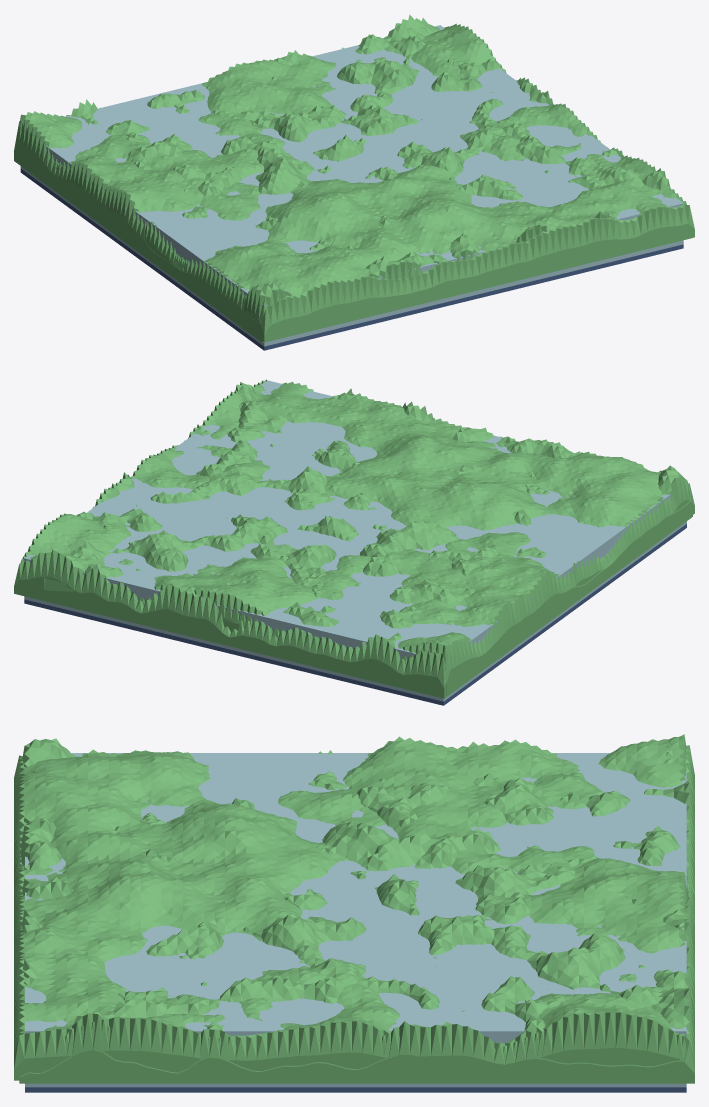
Rendered from Terrain.glb.
3 views of the same model, one above another, from view 1: azimuth 30°, elevation 25°; view 2: azimuth 150°, elevation 25°; view 3: azimuth 270°, elevation 25° (orthographic). The views are drawn at different scales.
Parts seen in each view (by area): view 1: Mesh_Mesh_head_geo.001_lambert2SG.001; view 2: Mesh_Mesh_head_geo.001_lambert2SG.001; view 3: Mesh_Mesh_head_geo.001_lambert2SG.001.
Part boxes in pixels (x1,y1,x2,y2): Mesh_Mesh_head_geo.001_lambert2SG.001: [14, 14, 694, 350]; Mesh_Mesh_head_geo.001_lambert2SG.001: [14, 379, 694, 705]; Mesh_Mesh_head_geo.001_lambert2SG.001: [14, 734, 694, 1092].
Size of the model in its own units: 220 by 31.23 by 221.
